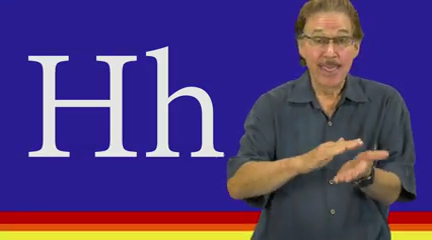H: (292, 134, 396, 195)
